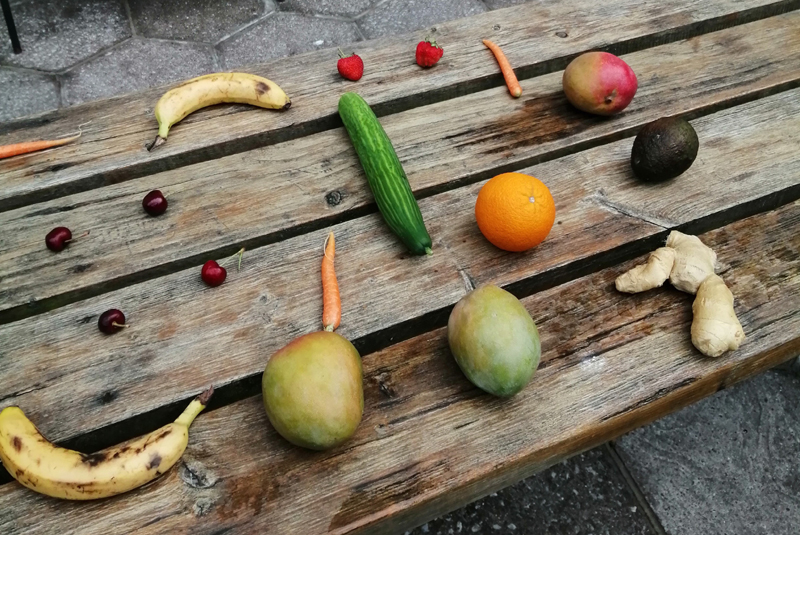avocado: (618, 113, 717, 189)
banana: (140, 68, 295, 139)
carrot: (477, 24, 536, 112), (306, 213, 346, 335)
cherry: (184, 235, 255, 296), (87, 299, 147, 347), (37, 217, 101, 261), (131, 185, 196, 217)
cucumber: (331, 82, 444, 256)
ginger: (606, 216, 747, 363)
mango: (430, 279, 554, 400), (254, 327, 367, 455), (556, 46, 638, 118)
orange: (463, 168, 566, 254)
strawberry: (404, 17, 457, 71), (323, 42, 374, 86)
